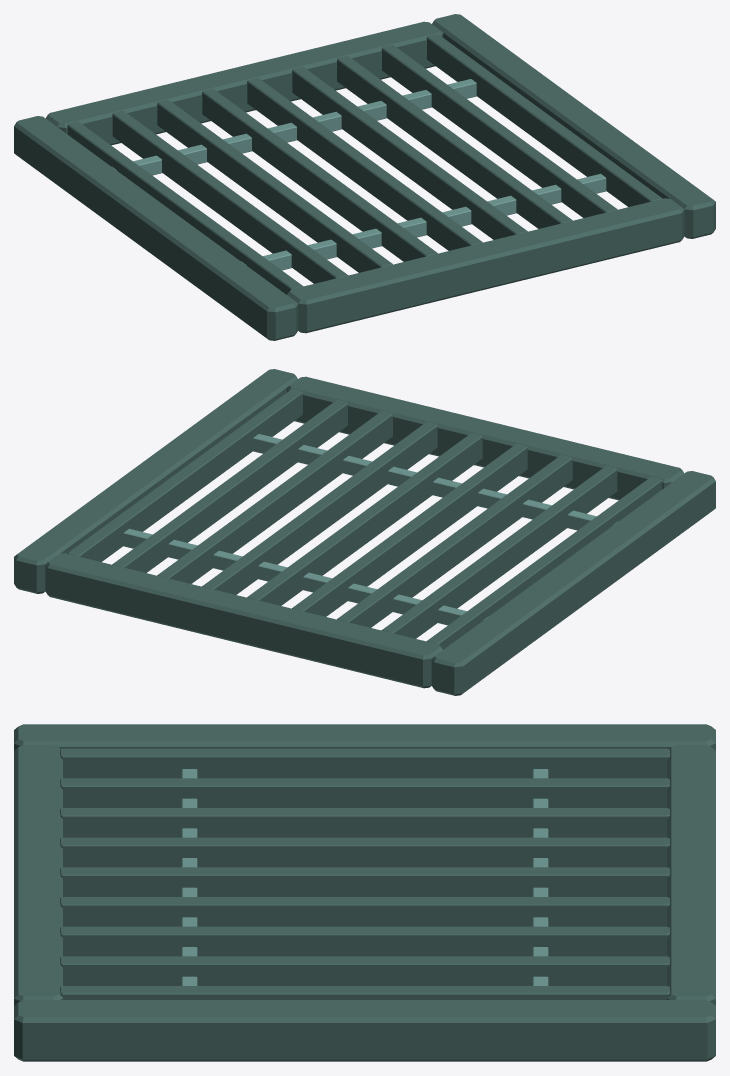
Rendered from floor-grate.glb.
The picture shows the model from 3 angles, top to bottom: view 1: azimuth 30°, elevation 25°; view 2: azimuth 150°, elevation 25°; view 3: azimuth 270°, elevation 25°; orthographic projection. The views are drawn at different scales.
Visible parts, largest first — view 1: floor-grate__body; view 2: floor-grate__body; view 3: floor-grate__body.
Part boxes in pixels (left/top/right/bottom): floor-grate__body: left=14, top=14, right=715, bottom=340; floor-grate__body: left=14, top=369, right=715, bottom=695; floor-grate__body: left=14, top=724, right=715, bottom=1061.
Size of the model in its own units: 2 by 0.14 by 2.
